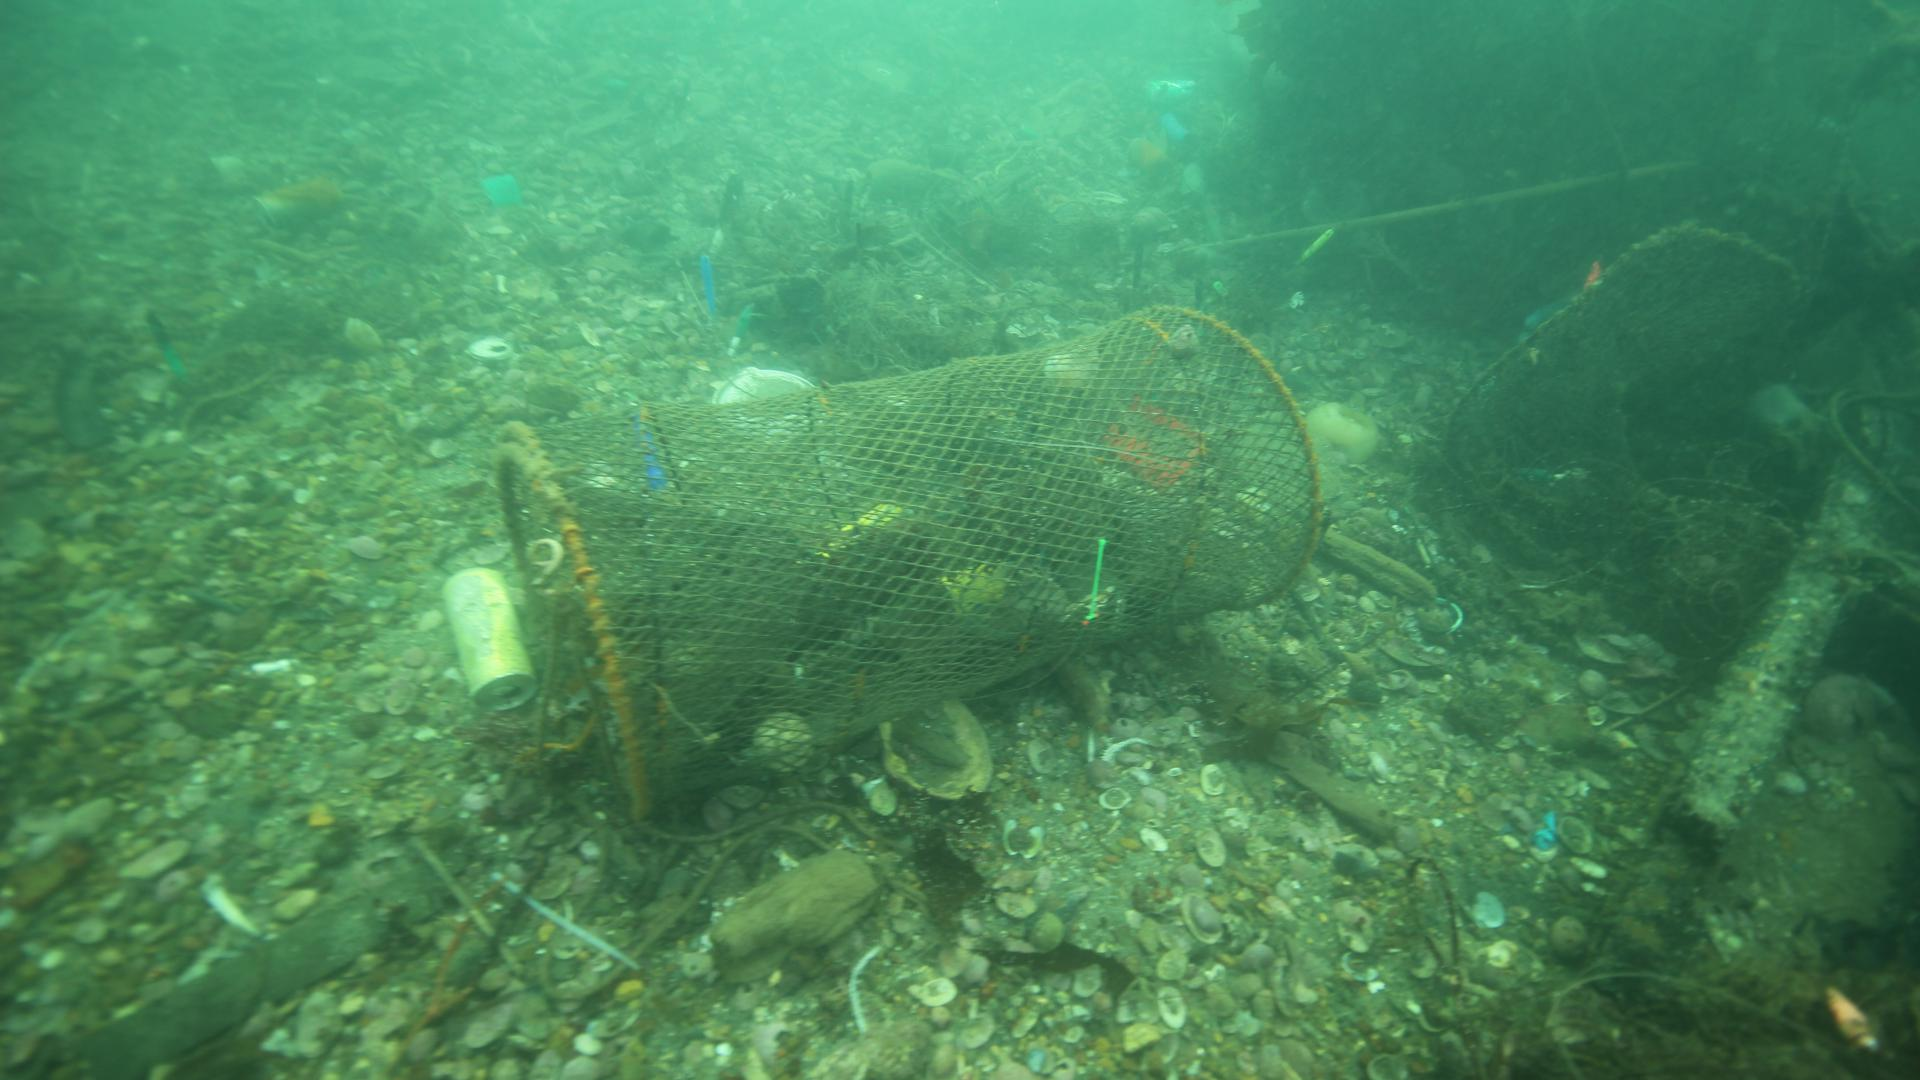spring fish trap: (492, 298, 1327, 822)
